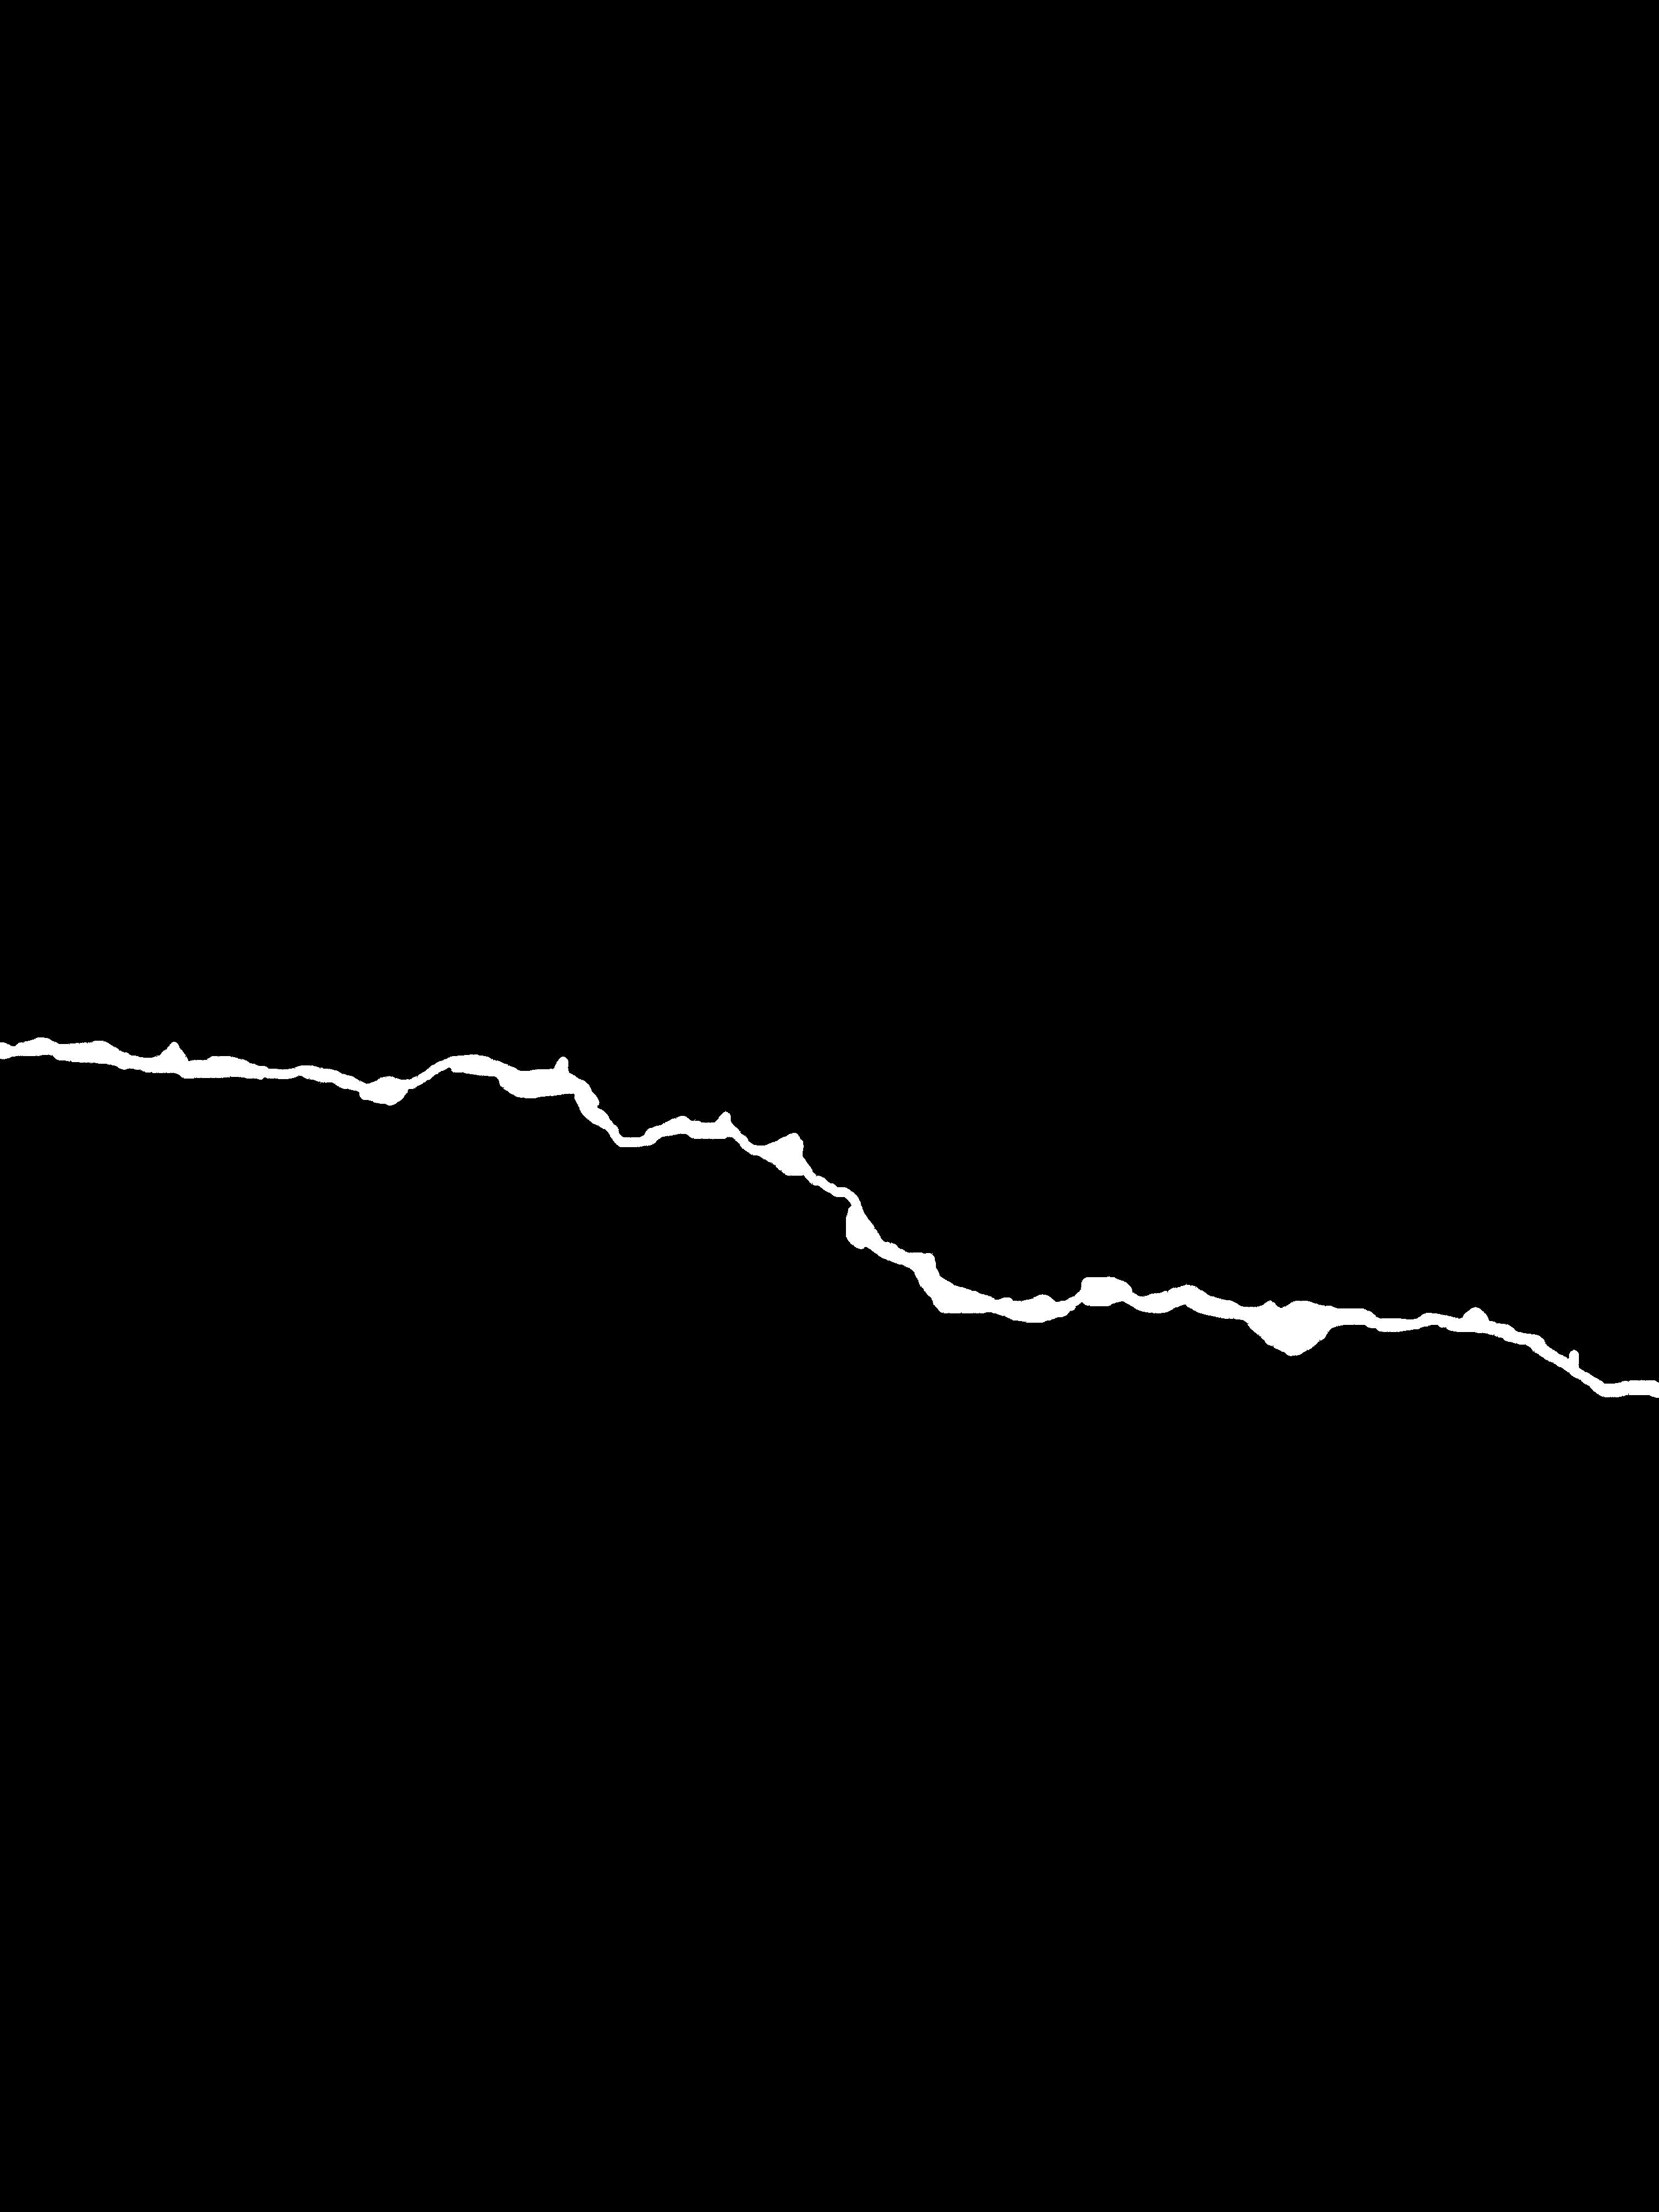Crack: (0, 1001, 1659, 1423)
